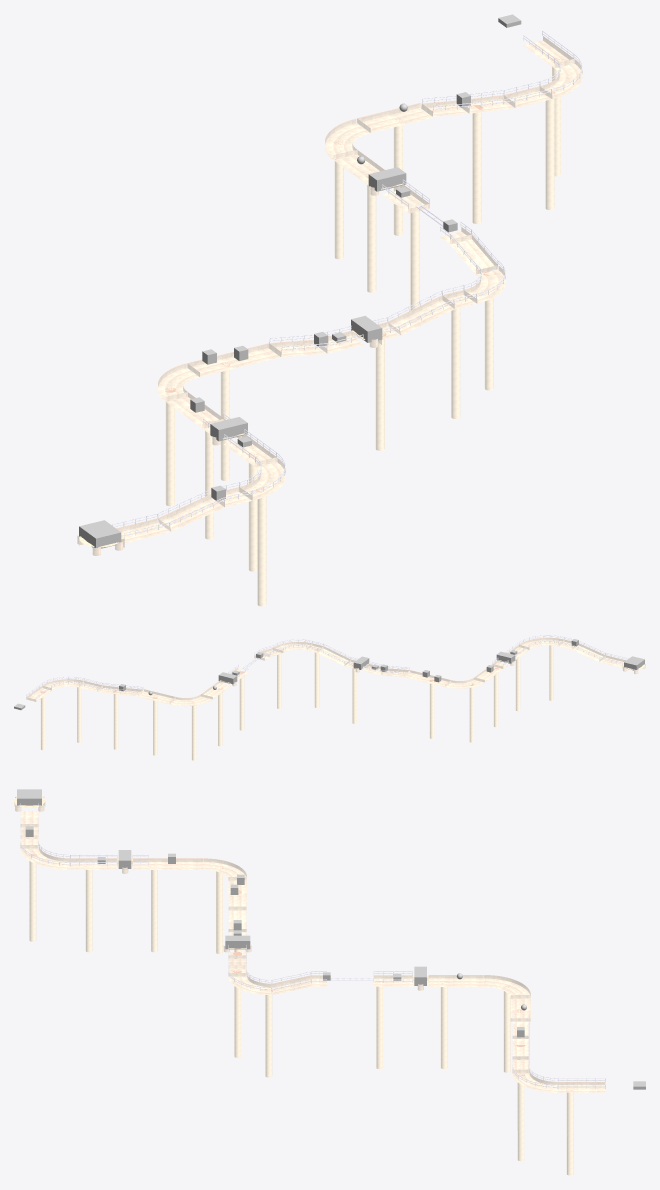
The model's file is level.gltf.
3 renders of one model, top to bottom at view 1: azimuth 30°, elevation 25°; view 2: azimuth 150°, elevation 25°; view 3: azimuth 270°, elevation 25°, orthographic. The views are drawn at different scales.
Visible parts, largest first — view 1: Floor_009, Floor_021, Column_013, Floor_013, Floor_020, Column_014, Column_001, Floor_002, Column_007, Column_006, Floor_004, Column_004 (+11 smaller); view 2: Floor_004, Column_005, Column_013, Column_007, Column_011, Column_009, Column_015, Column_003, Floor_025, Column_002, Floor_009, Floor_020 (+15 smaller); view 3: Floor_020, Column_015, Column_008, Column_010, Column_002, Column_001, Column_011, Floor_019, Floor_004, Column_014, Floor_007, Column_009 (+5 smaller).
Boxes of the visible parts, x1,y1,x2,y2 form: Floor_009: (187,343,280,376); Floor_021: (357,103,433,132); Column_013: (472,105,482,223); Floor_013: (387,295,455,335); Floor_020: (325,118,369,159); Column_014: (544,92,555,210); Column_001: (256,487,266,606); Floor_002: (158,494,225,531); Column_007: (451,302,461,418); Column_006: (375,333,386,450); Floor_004: (239,458,285,500); Column_004: (165,387,175,506); Floor_004: (519,637,564,649); Column_005: (429,679,434,738); Column_013: (113,690,118,749); Column_007: (314,649,319,707); Column_011: (191,701,196,760); Column_009: (239,671,244,730); Column_015: (40,691,45,750); Column_003: (493,668,498,727); Floor_025: (42,679,84,690); Column_002: (515,652,520,711); Floor_009: (404,670,451,686); Floor_020: (170,694,212,706); Floor_020: (483,975,530,998); Column_015: (566,1089,573,1175); Column_008: (265,989,272,1077); Column_010: (440,981,447,1069); Column_002: (85,864,92,952); Column_001: (28,854,36,941); Column_011: (503,984,510,1072); Floor_019: (428,975,483,986); Floor_004: (20,848,70,869); Column_014: (516,1073,524,1161); Floor_007: (148,858,203,869); Column_009: (375,981,383,1069).
Bounding box in the file's own units: 466 × 80.48 × 404.
7 materials, 7 textured.
